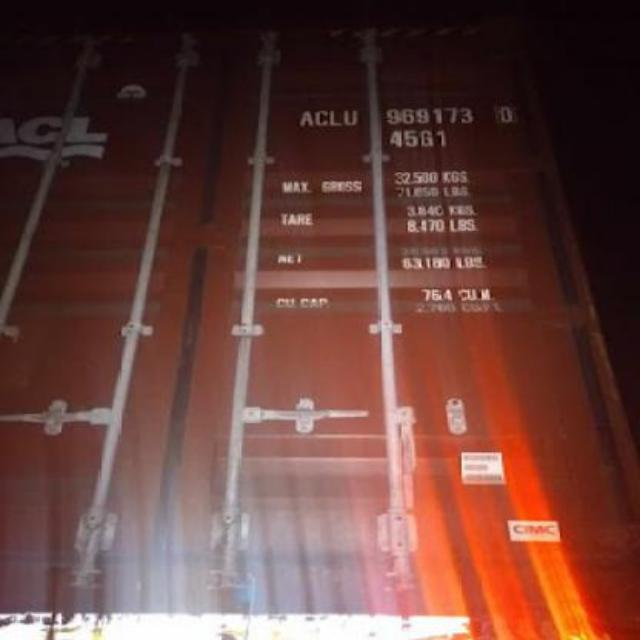0: (500, 105, 512, 125)
1: (432, 106, 442, 124)
3: (458, 104, 476, 126)
6: (401, 107, 414, 123)
7: (446, 105, 459, 125)
9: (416, 106, 429, 124), (388, 108, 400, 122)
A: (299, 105, 315, 128)
C: (316, 110, 329, 124)
L: (330, 108, 346, 126)
U: (344, 106, 360, 128)
